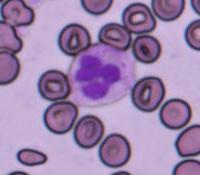N: (67, 42, 136, 106)
